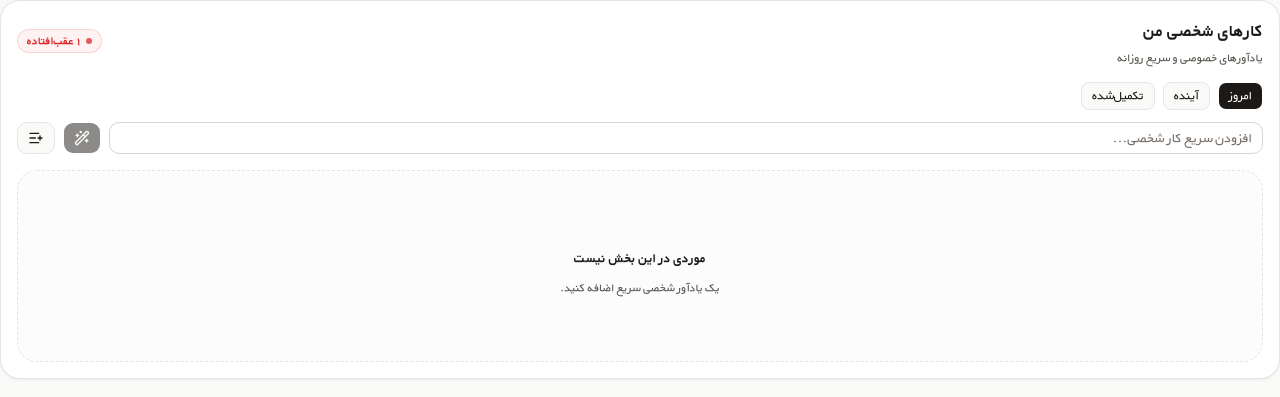
Test: PersonalTodoPanel › never keeps a completed todo in an open tab when payloads overlap
Expected: the text "تماس با مدیر IT" is not shown
Click the button "تکمیل‌شده".
click(1118, 96)  # box [1081, 82, 1155, 110]
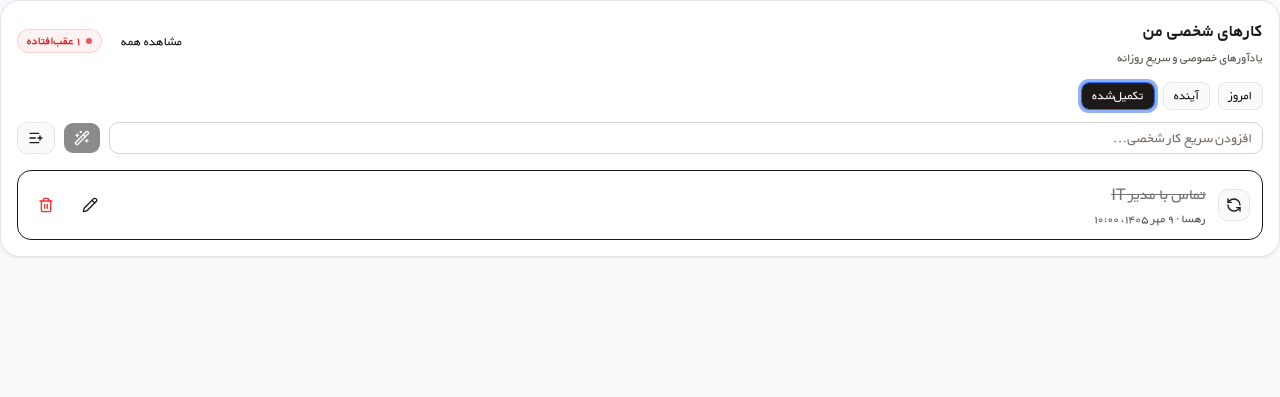
Expected: the text "تماس با مدیر IT" is shown, [1111, 183, 1206, 206]
